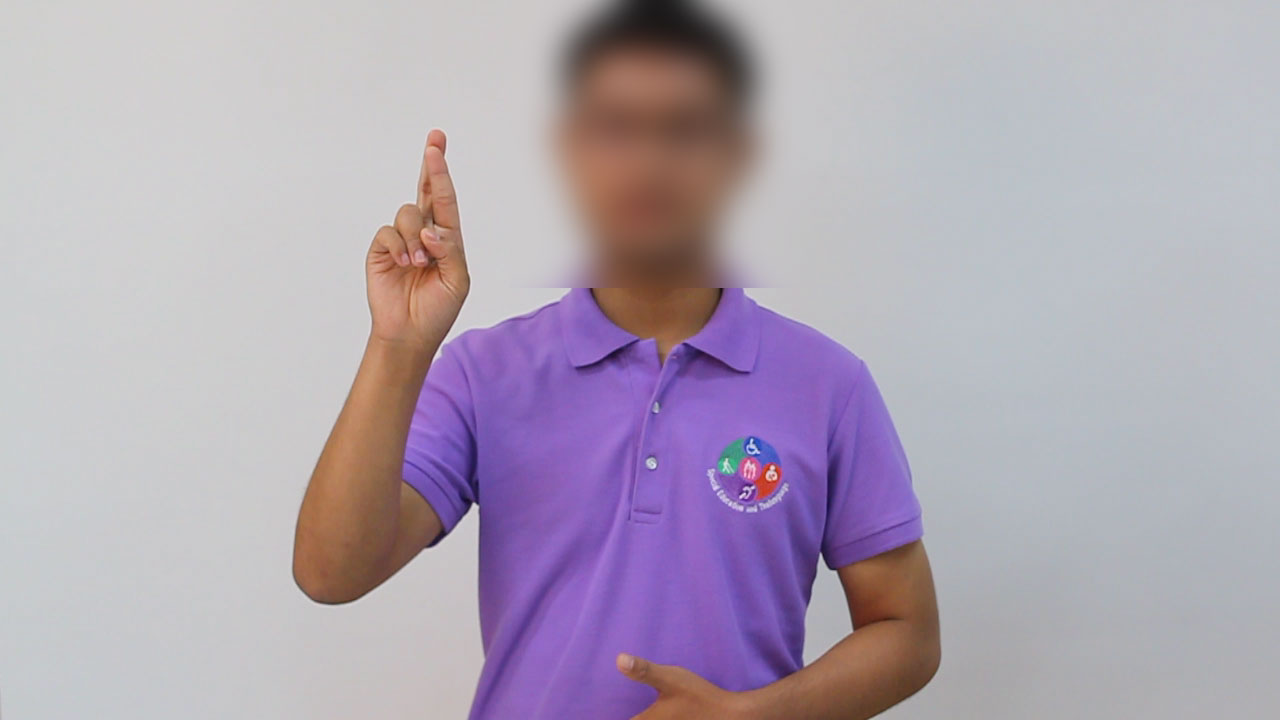rao: (341, 122, 473, 374)
